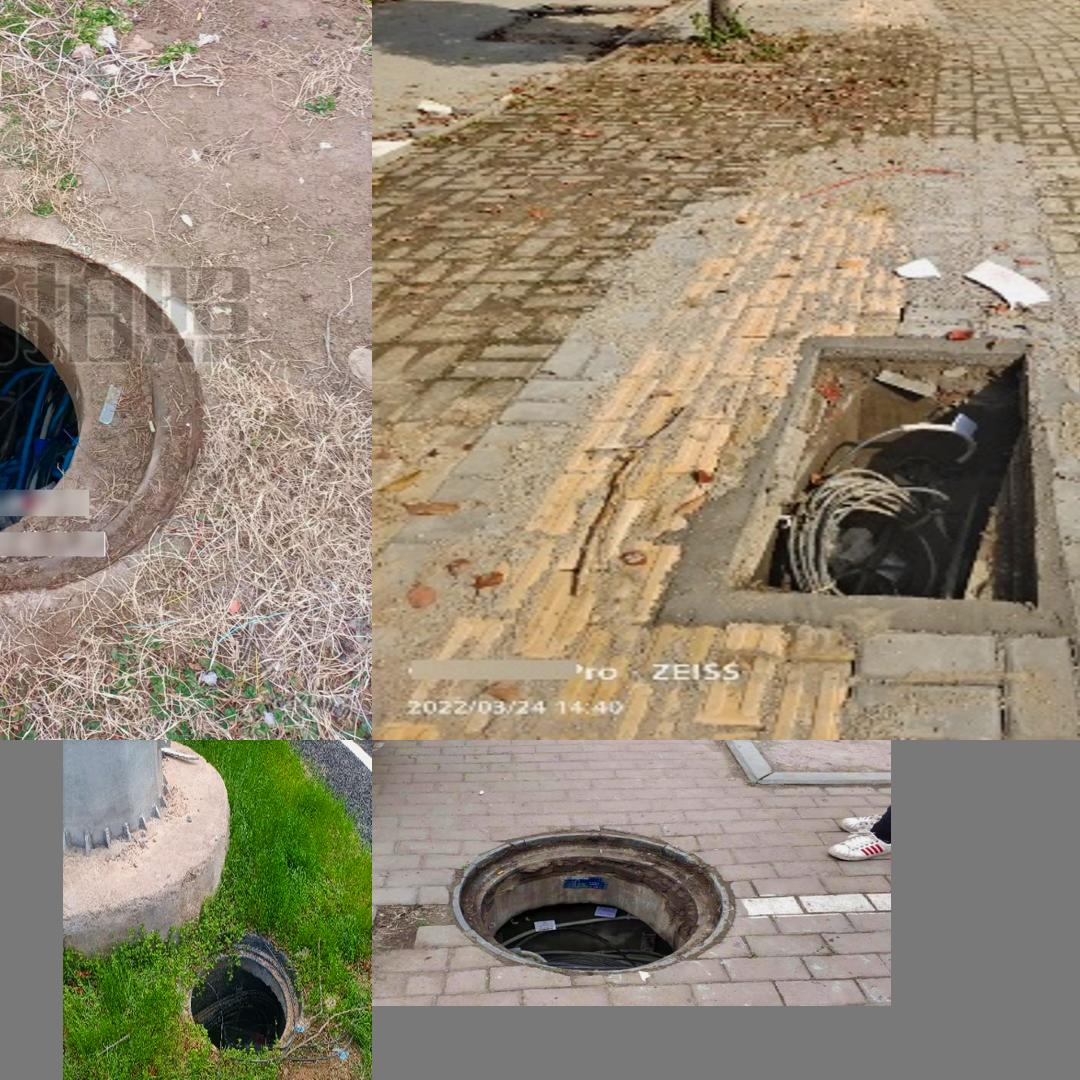lose: (656, 294, 1080, 662), (0, 232, 245, 589), (441, 819, 740, 976), (184, 932, 301, 1062)
